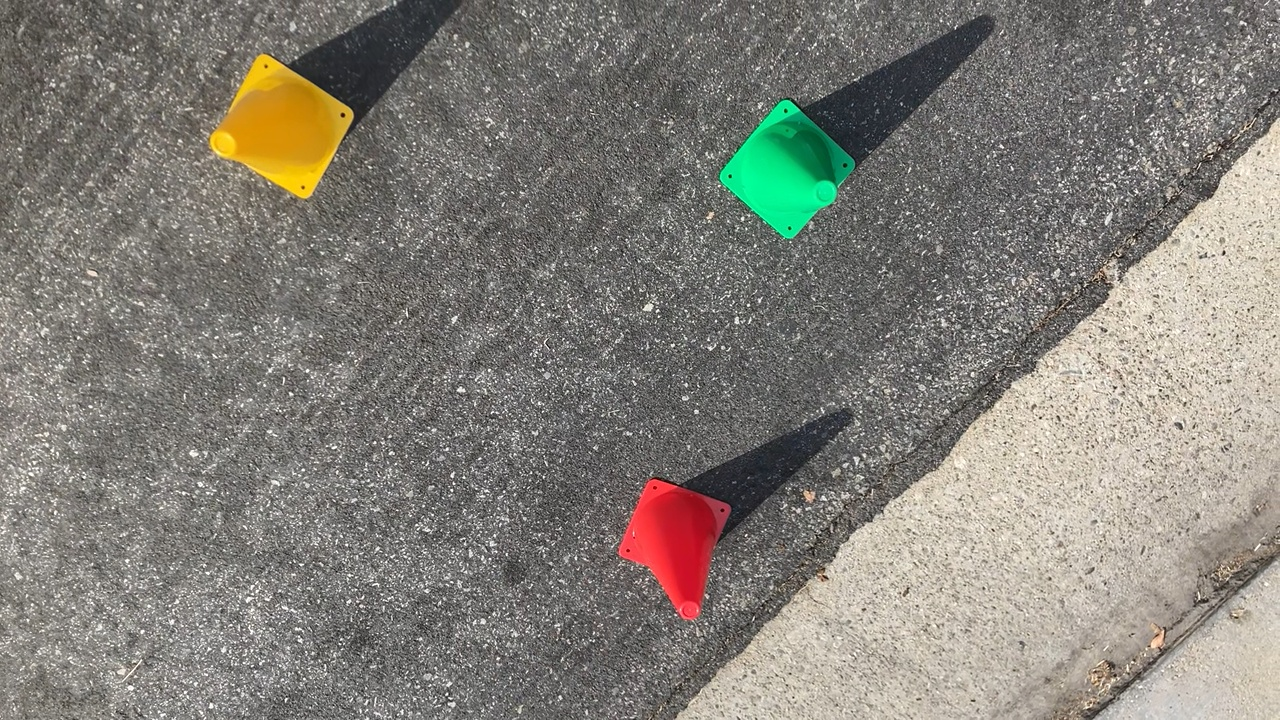green_cone: (711, 92, 861, 248)
red_cone: (614, 477, 734, 628)
yellow_cone: (204, 48, 358, 205)
